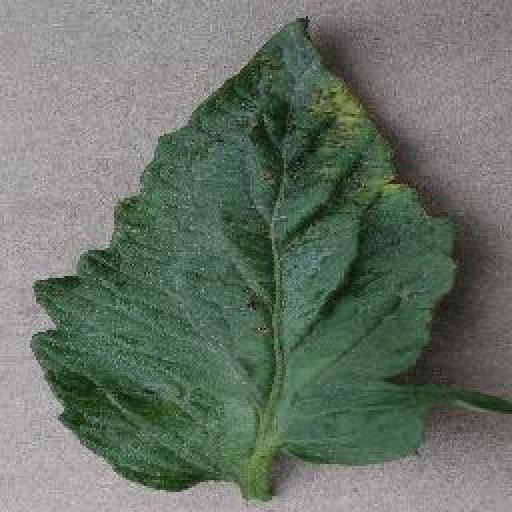Bacterial Spot: (26, 8, 512, 494)
